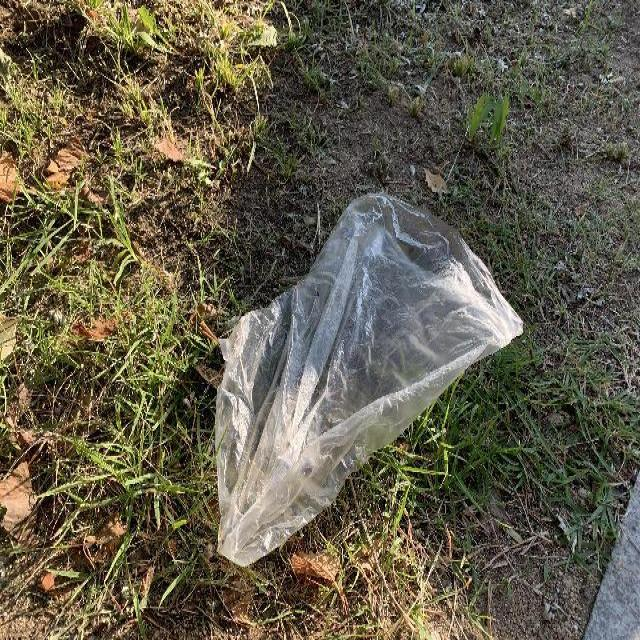plastic bag: (209, 187, 530, 567)
